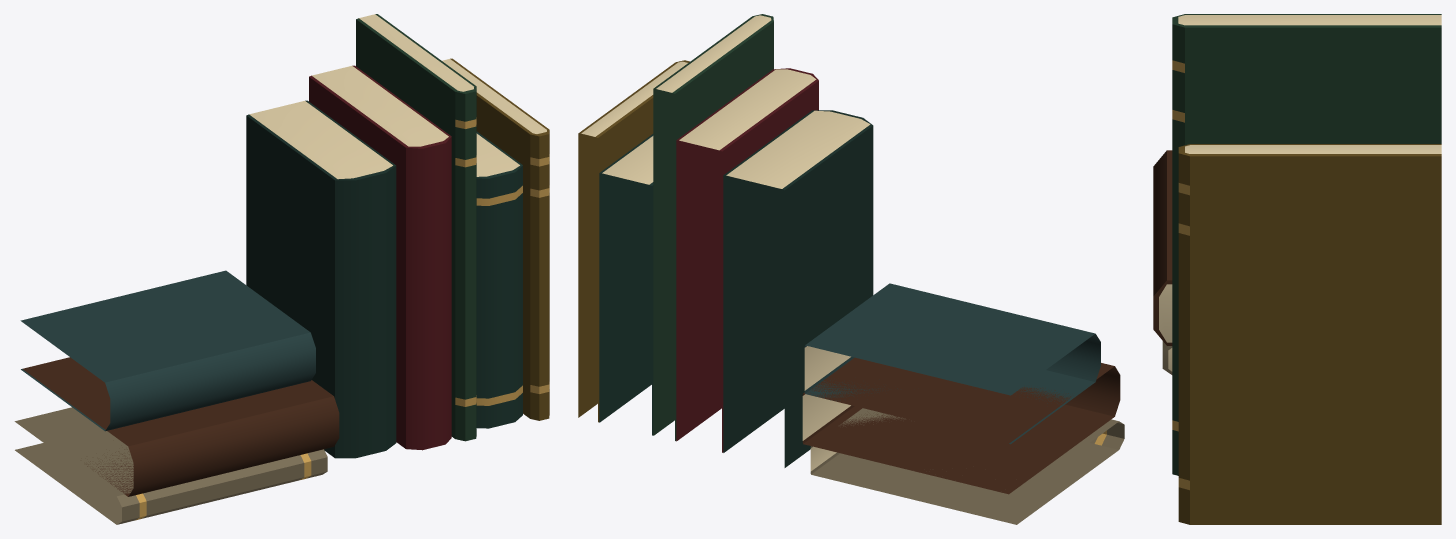
The model's file is bookrow_short_0.glb.
3 views of the same model, side by side, from view 1: azimuth 30°, elevation 25°; view 2: azimuth 150°, elevation 25°; view 3: azimuth 270°, elevation 25° (orthographic). The views are drawn at different scales.
Visible parts, largest first — view 1: bookrow_short_0; view 2: bookrow_short_0; view 3: bookrow_short_0.
Boxes of the visible parts, left/top/right/bottom form: bookrow_short_0: left=14, top=14, right=549, bottom=524; bookrow_short_0: left=578, top=14, right=1124, bottom=524; bookrow_short_0: left=1153, top=14, right=1441, bottom=524.
Size of the model in its own units: 0.4971 by 0.377 by 0.2187.
